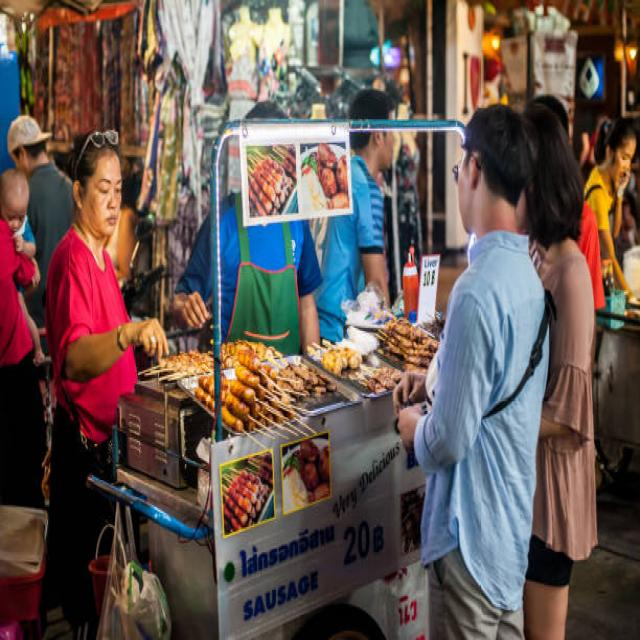Emperan: (21, 148, 557, 640)
